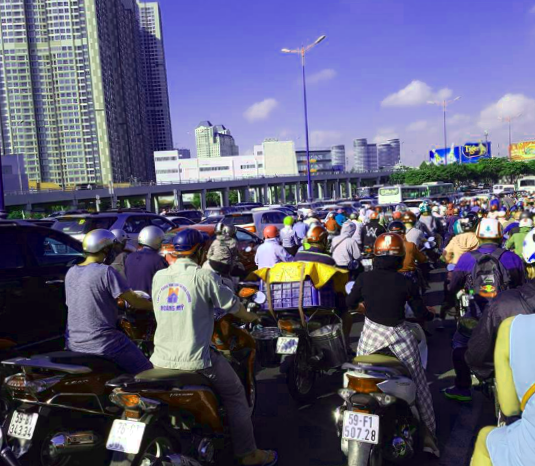Bien-so: (112, 406, 150, 440), (332, 396, 365, 429), (23, 396, 53, 427), (271, 325, 293, 346)
